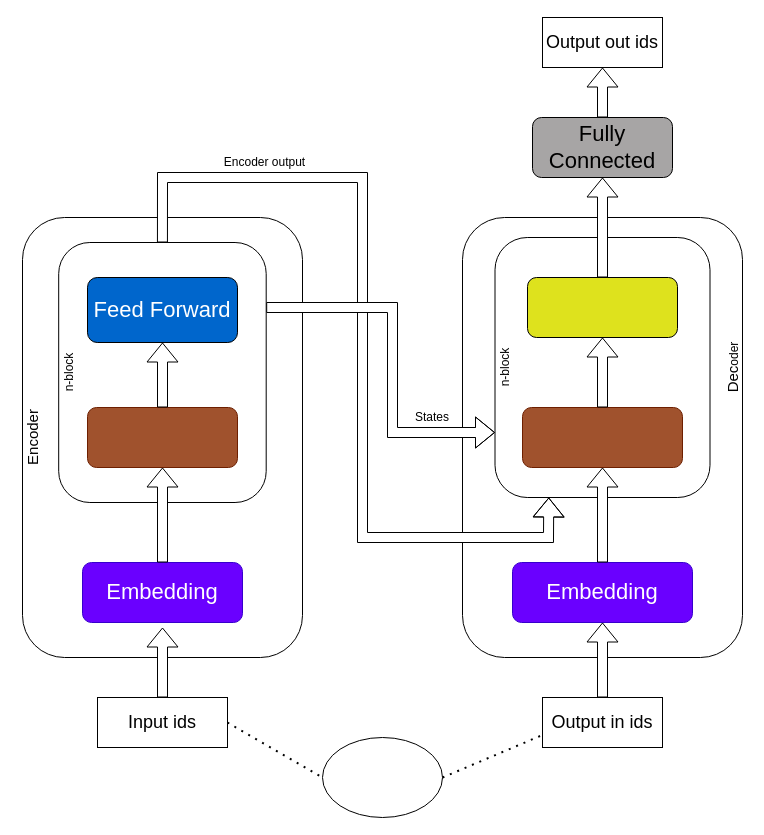
Some shapes in this 764 by 835 pixel diagram are drawn without their labels. The centre of each missing label's shape, as x and y in pixels:
Bi-LSTM: point 162,437
BPE Tokenization: point 382,777
Cross Attention: point 602,307
LSTM: point 602,437
